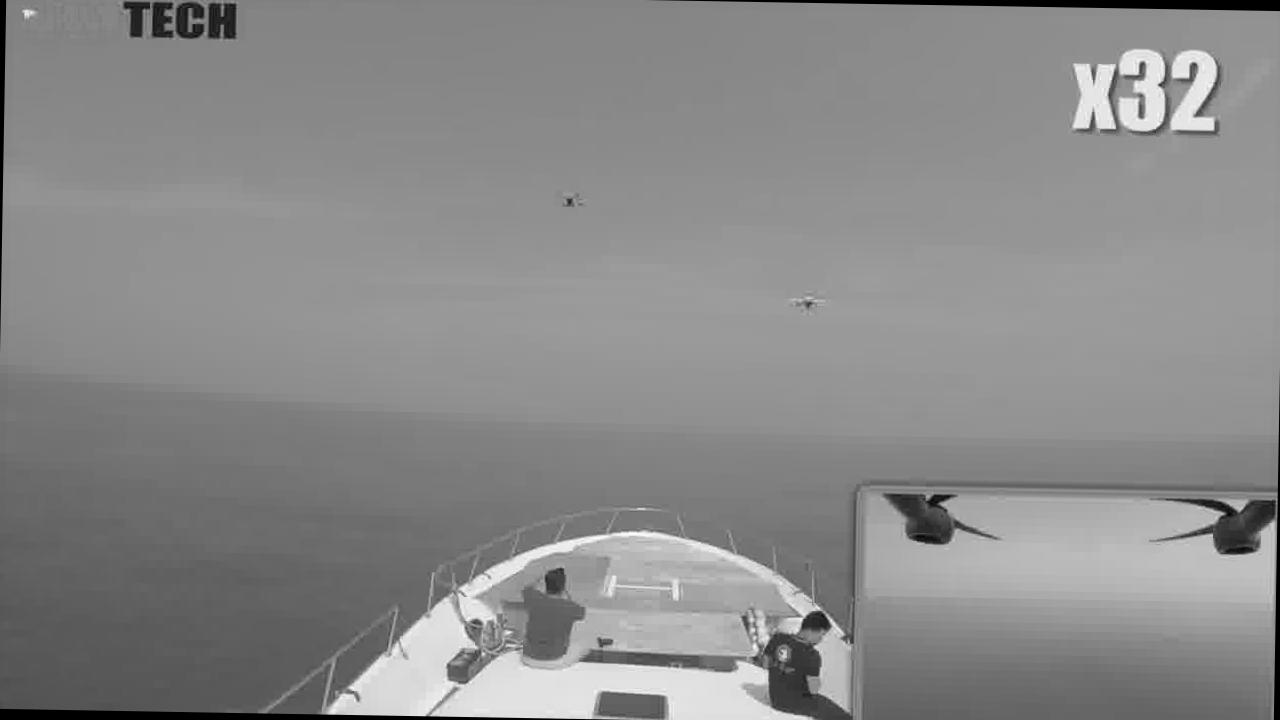drone: (784, 280, 832, 324), (546, 186, 596, 218)
